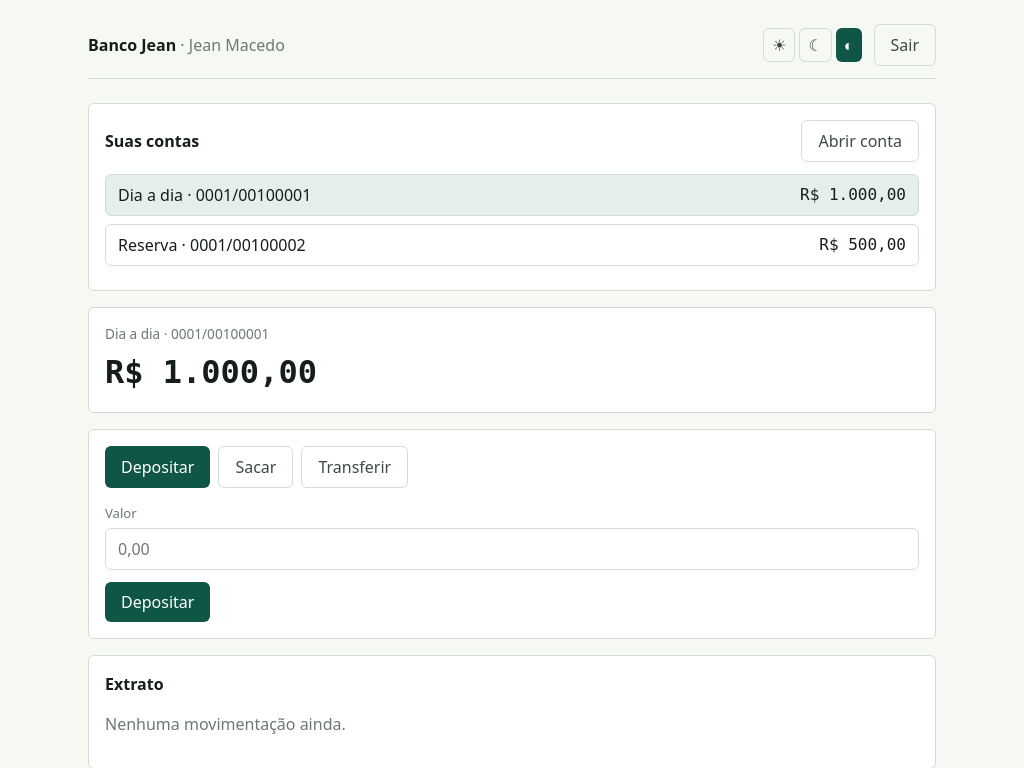
Test: guarda de autenticação › sair volta para o login
Expected: the text "· Jean Macedo" is shown, [176,34,285,56]
Click the button "Sair": {"x": 905, "y": 45} [874,24,936,66]
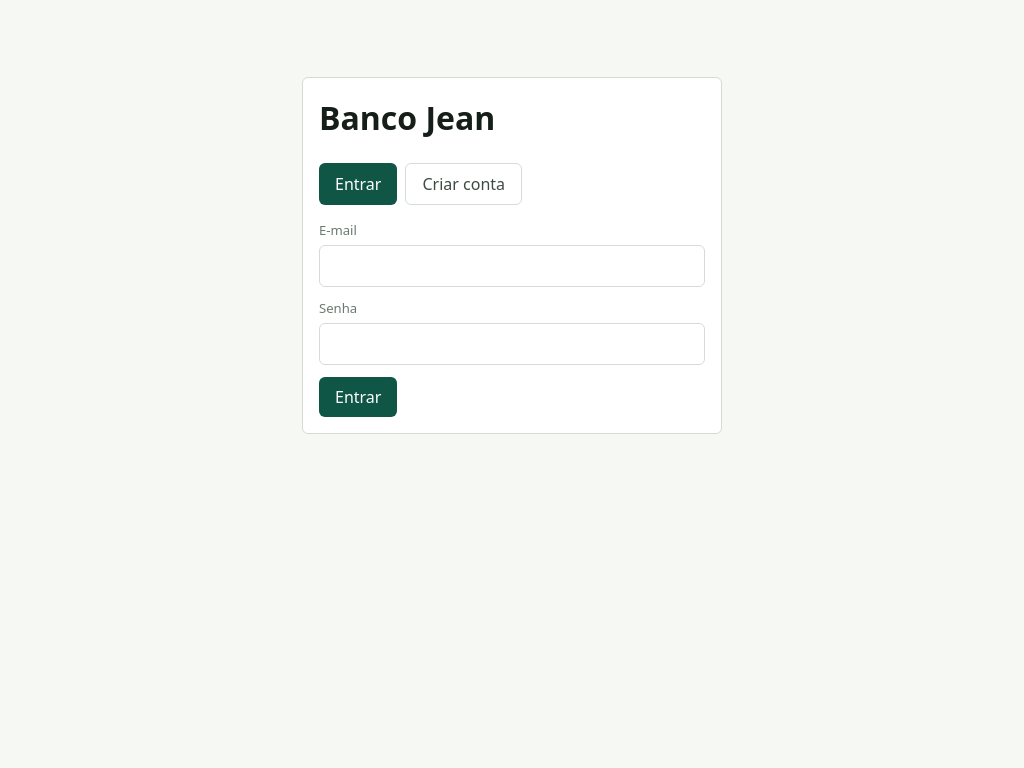
Expected: the tab "Entrar" is shown, [319,163,397,205]
